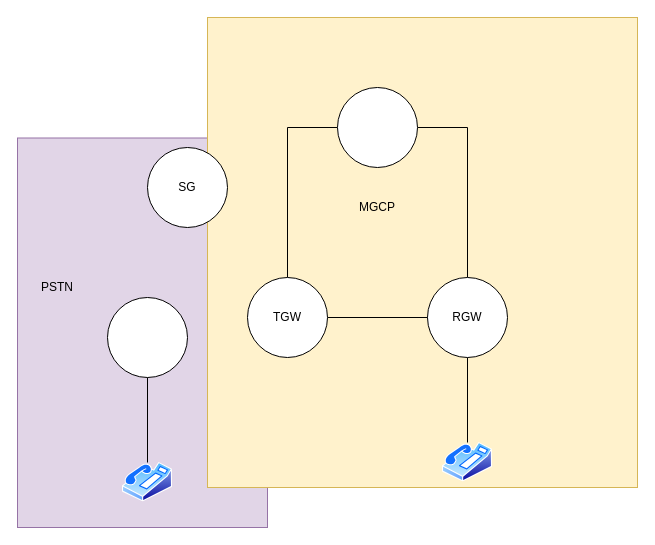
Some shapes in this 655 by 545 pixel diagram are drawn without their labels. Each missing label, with the centre of its shape:
CA: point (377, 127)
CO: point (147, 337)
